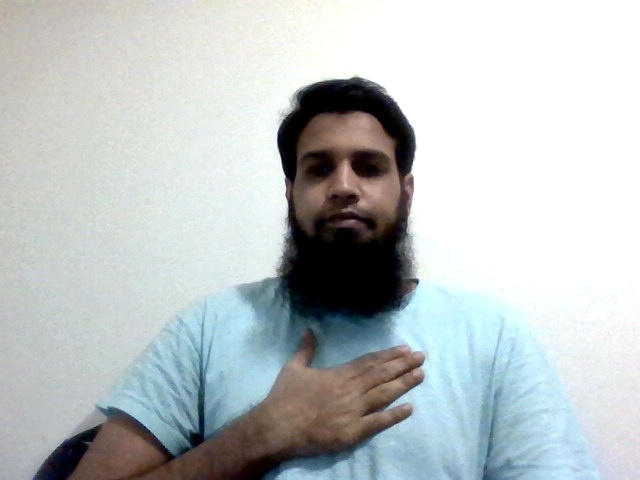please: (263, 325, 427, 462)
